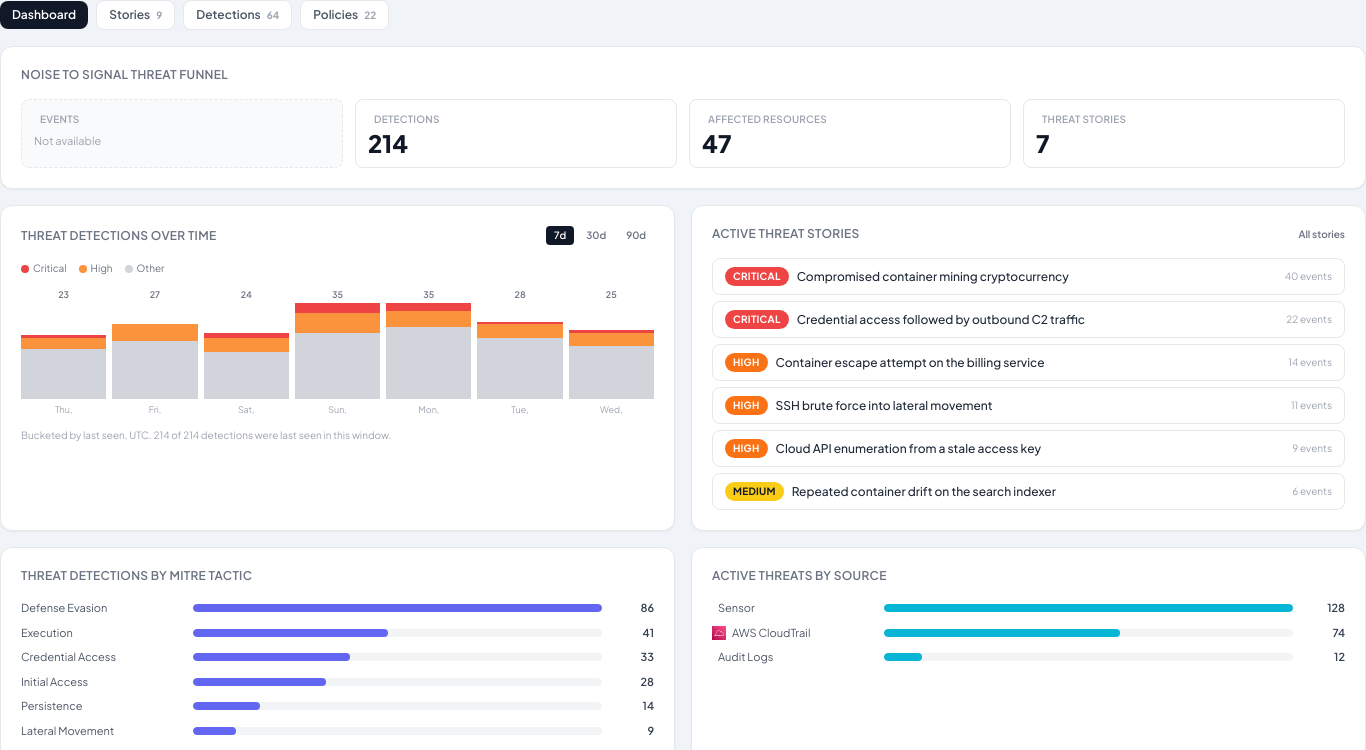
XamSecure demo data renders in every tab › Threats groups detections by threat, resource and account
Click the button "Detections 64" at {"x": 238, "y": 15}, box x1=183 y1=0 x2=292 y2=30
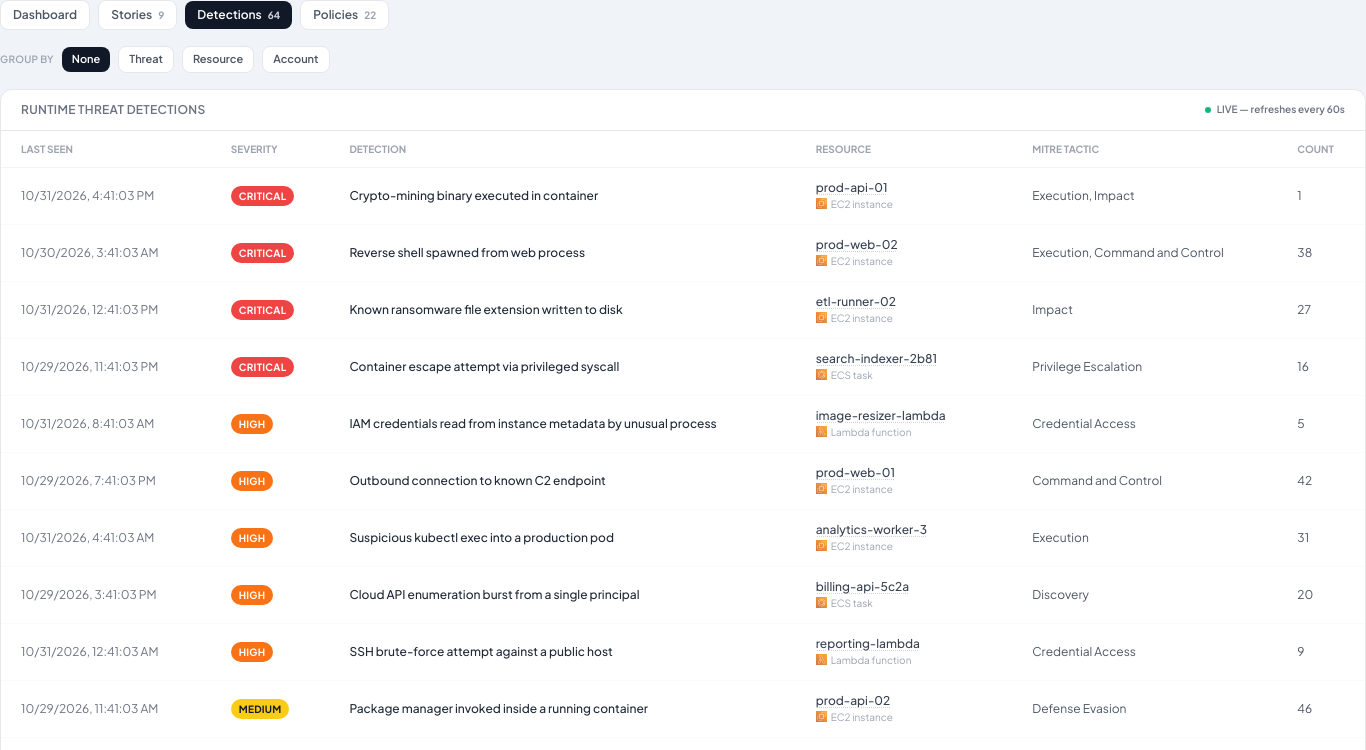
Click the button "Threat" at {"x": 146, "y": 59}, box x1=118 y1=46 x2=174 y2=72
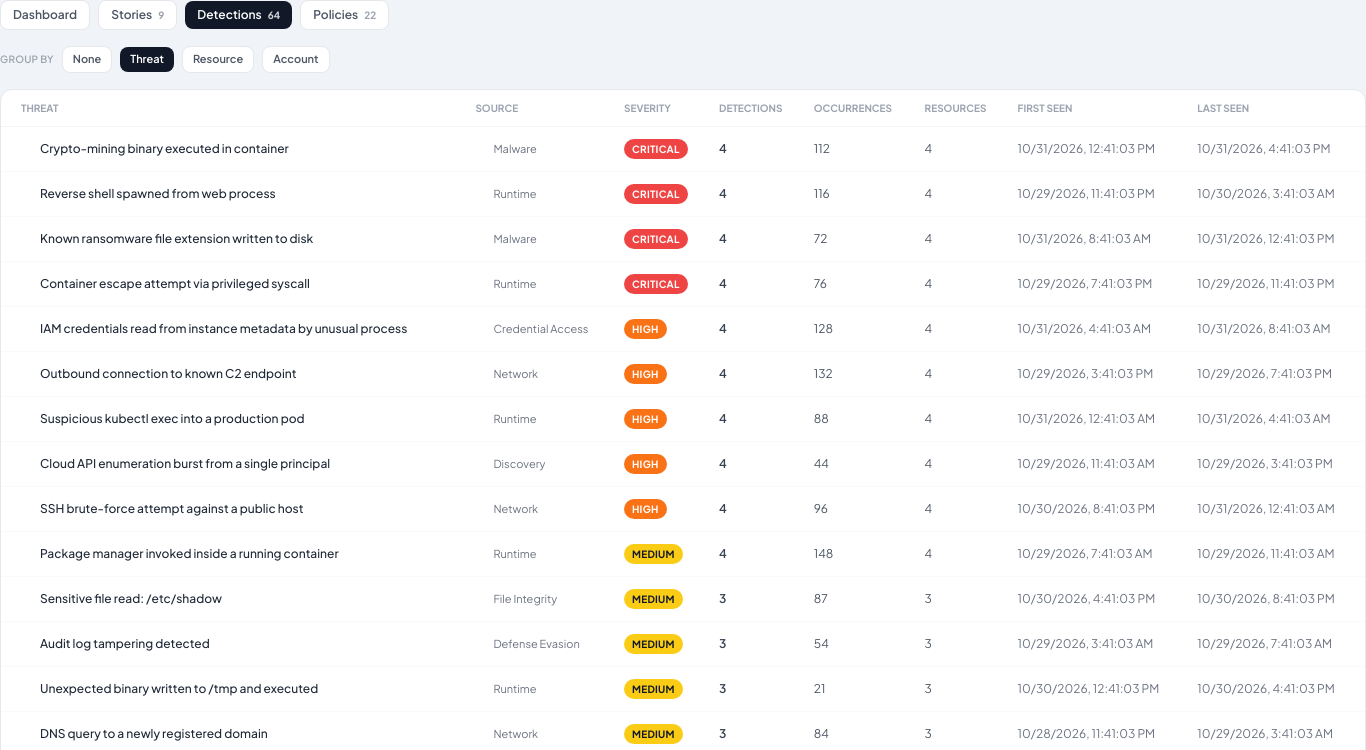
Result: the column heading "Occurrences" is shown at x1=802 y1=90 x2=913 y2=126
